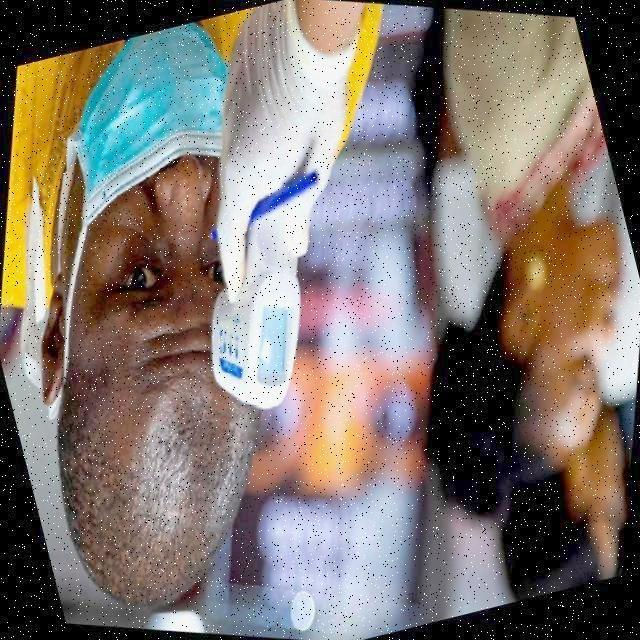hairnet: (51, 20, 255, 224)
no_gloves: (34, 236, 250, 612)
